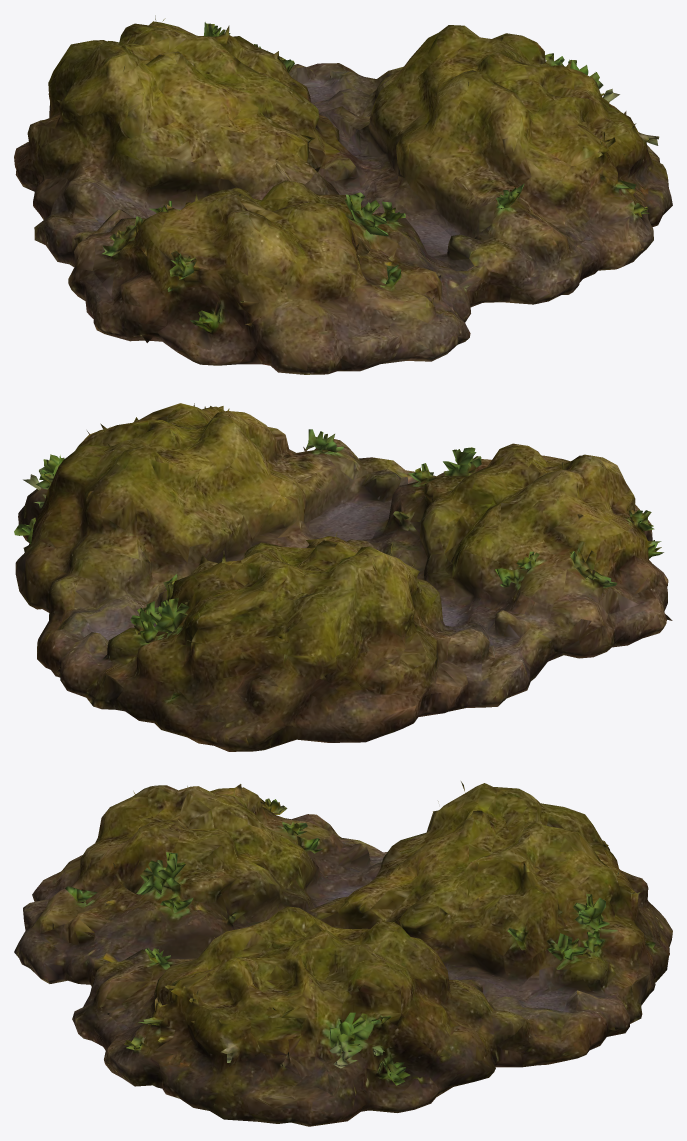
File: grass-terrain.glb
The picture shows the model from 3 angles, top to bottom: view 1: azimuth 30°, elevation 25°; view 2: azimuth 150°, elevation 25°; view 3: azimuth 270°, elevation 25°; orthographic projection. The views are drawn at different scales.
Visible parts, largest first — view 1: Landscape asset / grass-terrain; view 2: Landscape asset / grass-terrain; view 3: Landscape asset / grass-terrain.
Boxes of the visible parts, x1,y1,x2,y2 form: Landscape asset / grass-terrain: (14, 15, 672, 374); Landscape asset / grass-terrain: (14, 403, 672, 751); Landscape asset / grass-terrain: (14, 781, 672, 1126).
Size of the model in its own units: 1 by 0.2426 by 0.9989.
1 material, 1 textured.
